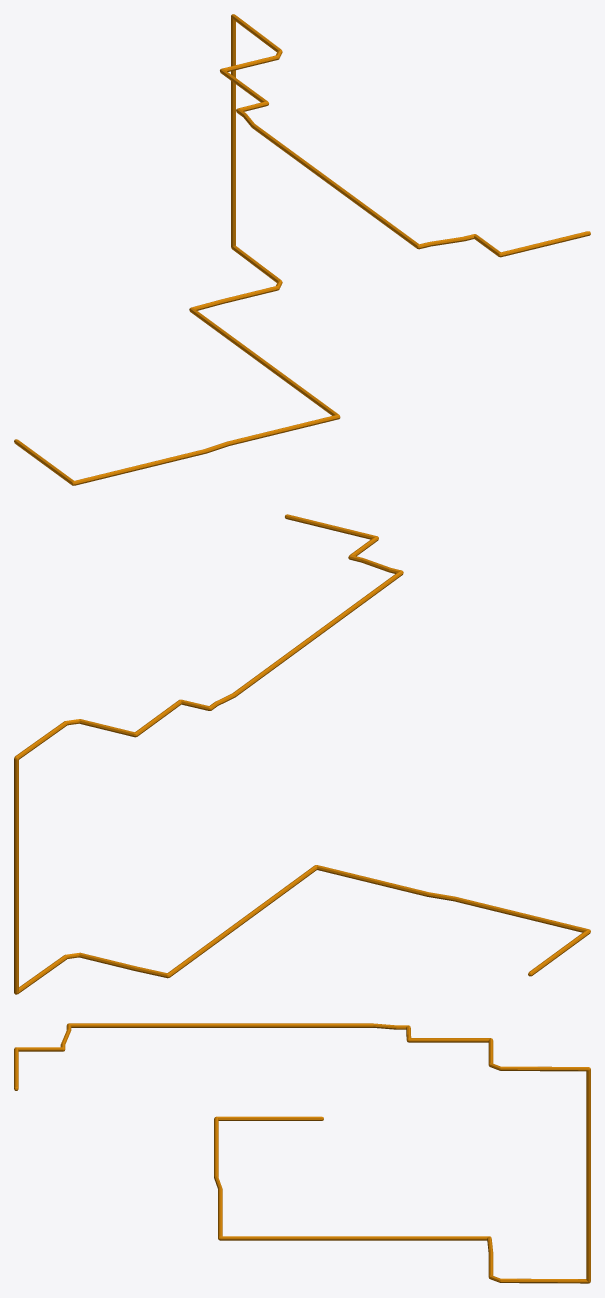
The picture shows the model from 3 angles, top to bottom: view 1: azimuth 30°, elevation 25°; view 2: azimuth 150°, elevation 25°; view 3: azimuth 270°, elevation 25°; orthographic projection. The views are drawn at different scales.
Bounding box in the file's own units: 1862 × 1020 × 2465.
